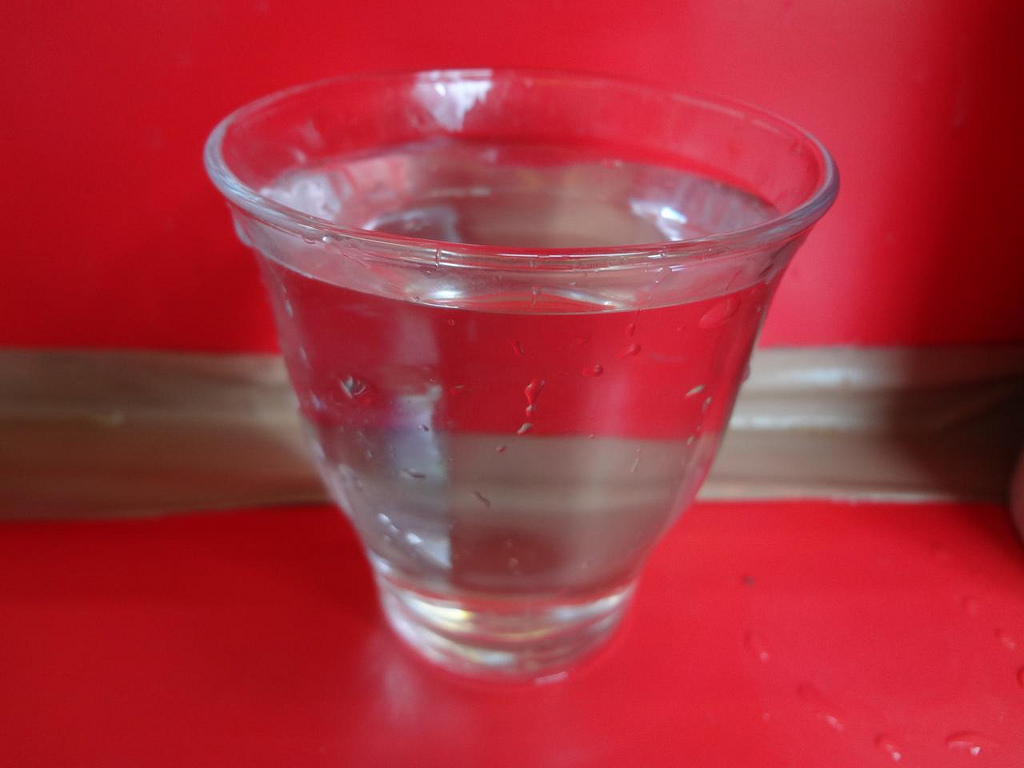glass of water: (213, 65, 817, 683)
